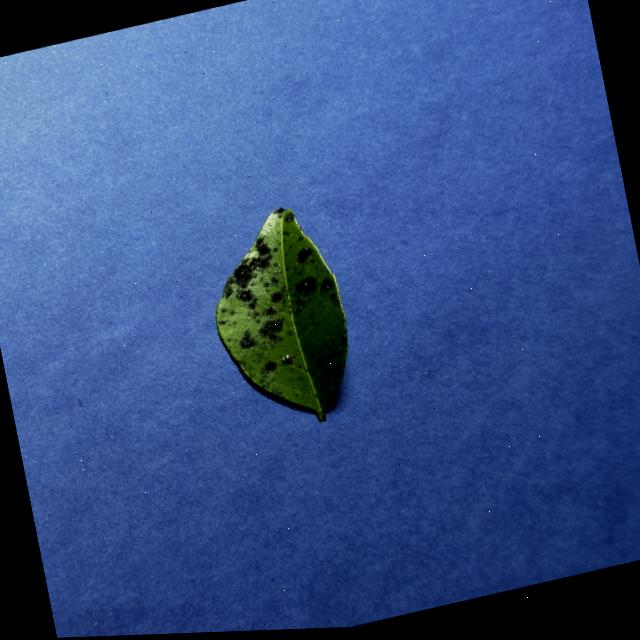sooty_mold: (215, 208, 346, 419)
